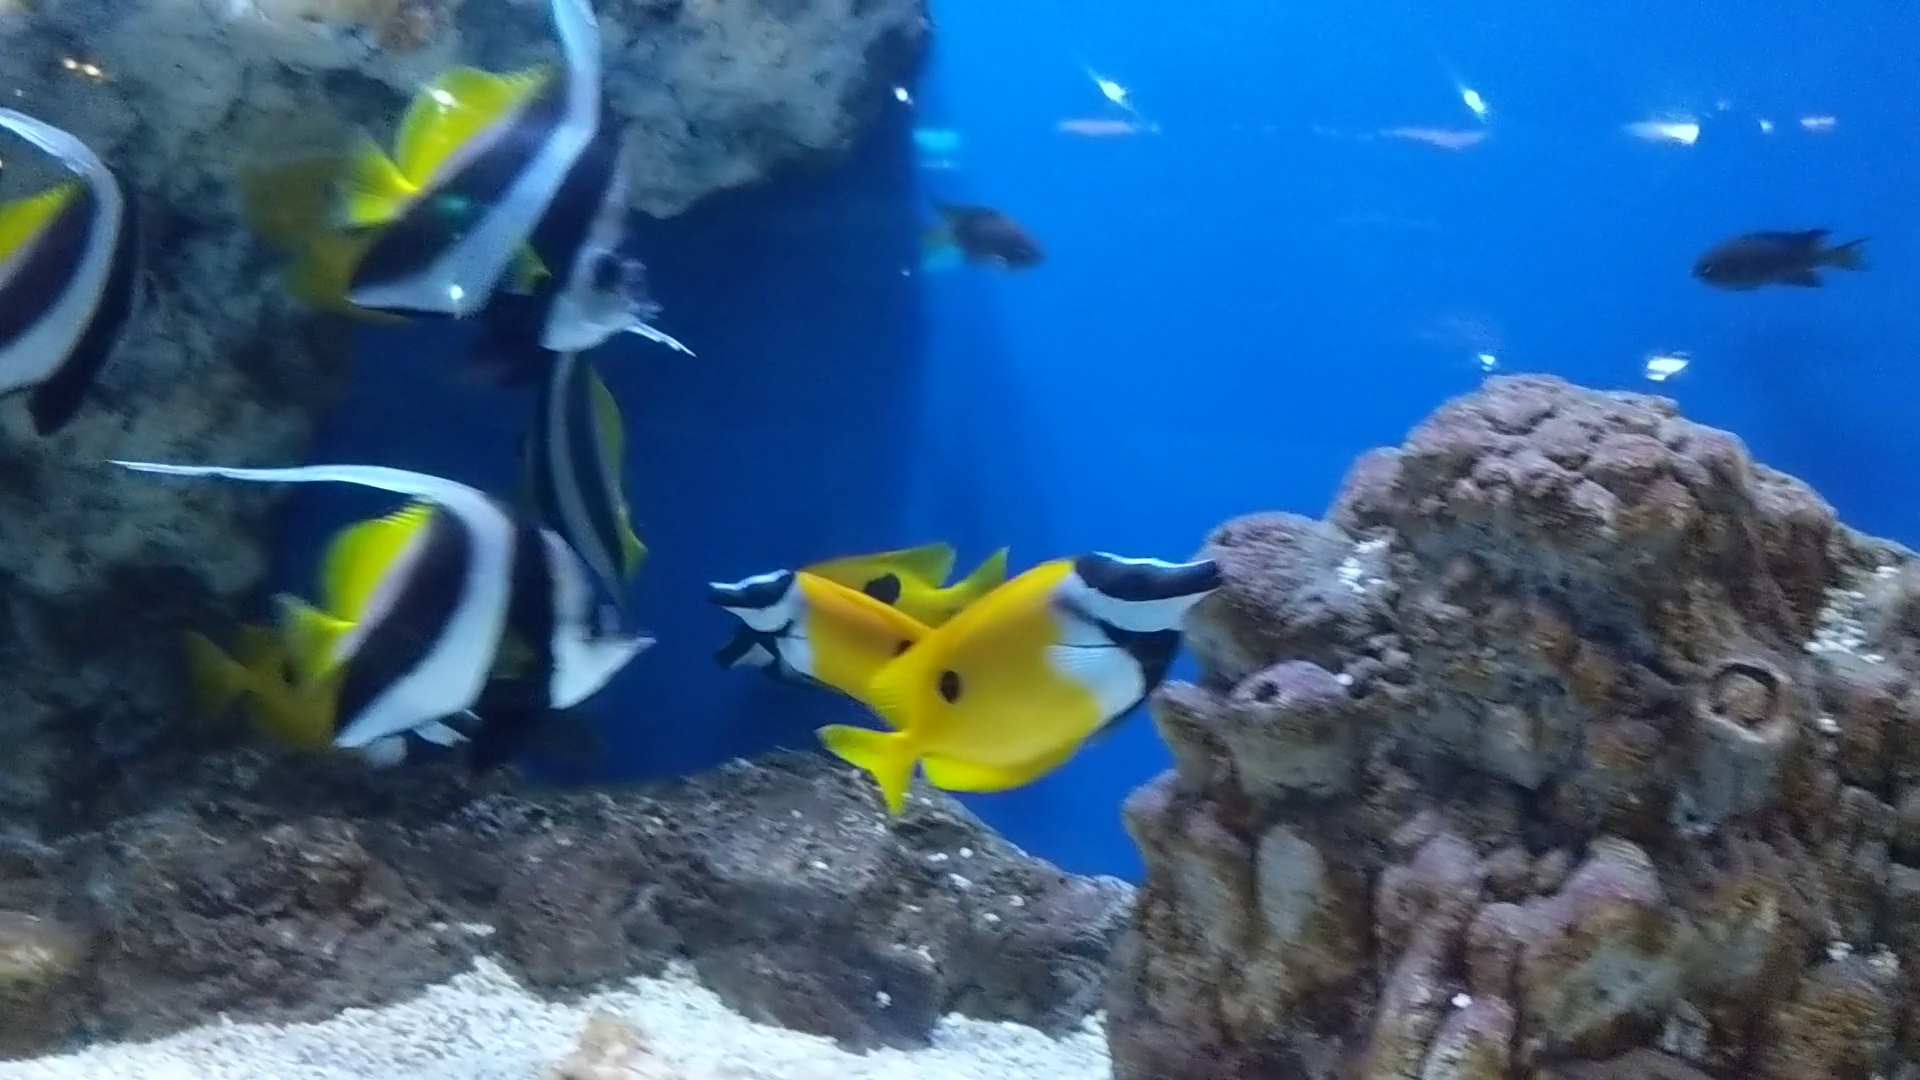moorfish: (119, 433, 661, 789), (224, 26, 723, 382), (3, 96, 138, 452), (518, 348, 653, 588)
rabbitfish: (835, 545, 1234, 839), (700, 576, 916, 700)
